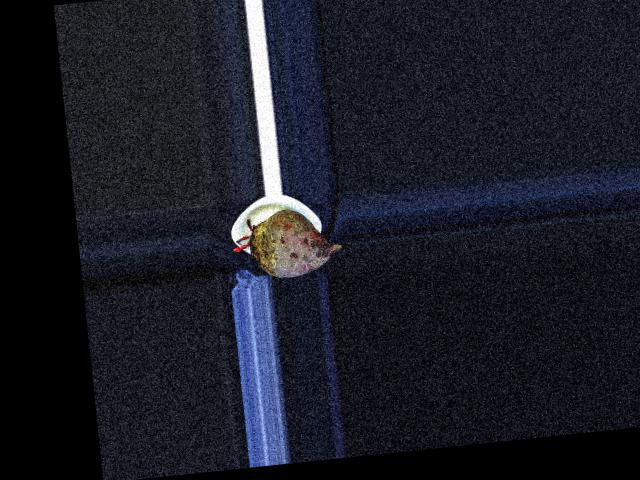beet: (229, 204, 343, 281)
